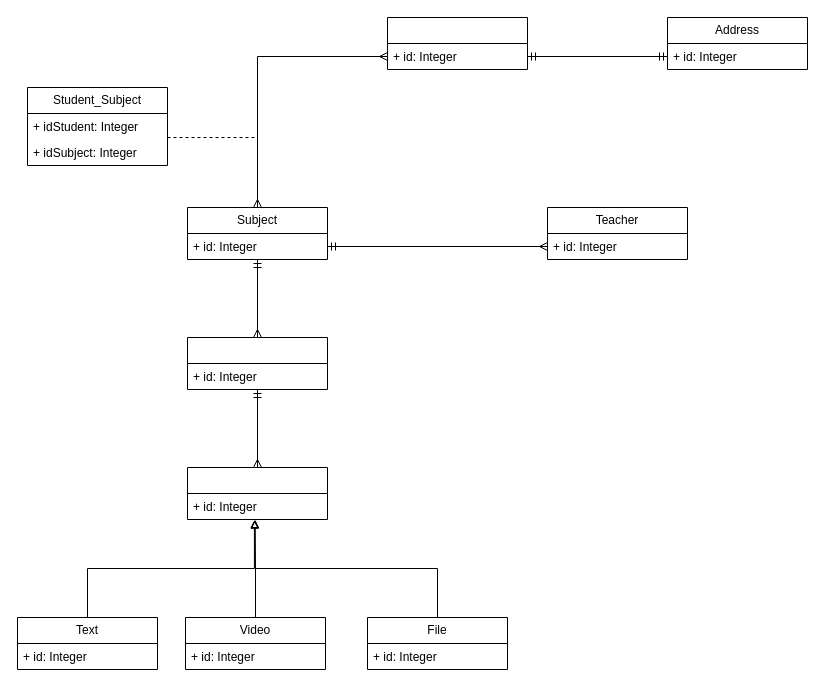
This 825x690 diagram has some shape labels left out. The box of each missing label's shape, as (x1, y1, x2, y2) in pixels:
Chapter: (186, 336, 328, 390)
Content: (186, 466, 328, 520)
Student: (386, 16, 528, 70)
